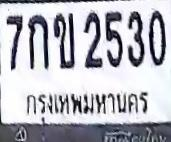0: (148, 9, 166, 66)
2: (83, 11, 103, 68)
3: (126, 11, 144, 66)
5: (105, 11, 123, 68)
7: (6, 14, 23, 70)
A01: (28, 14, 48, 70)
A02: (53, 12, 75, 69)
BKK: (19, 85, 153, 127)
